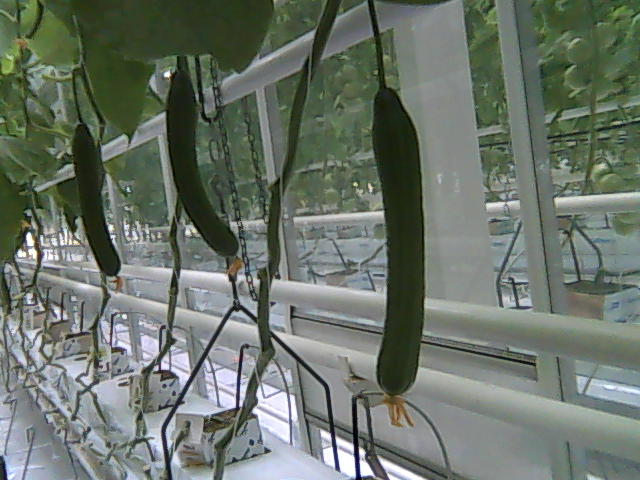concombre: (359, 74, 434, 428), (163, 63, 245, 282), (68, 117, 128, 291)
